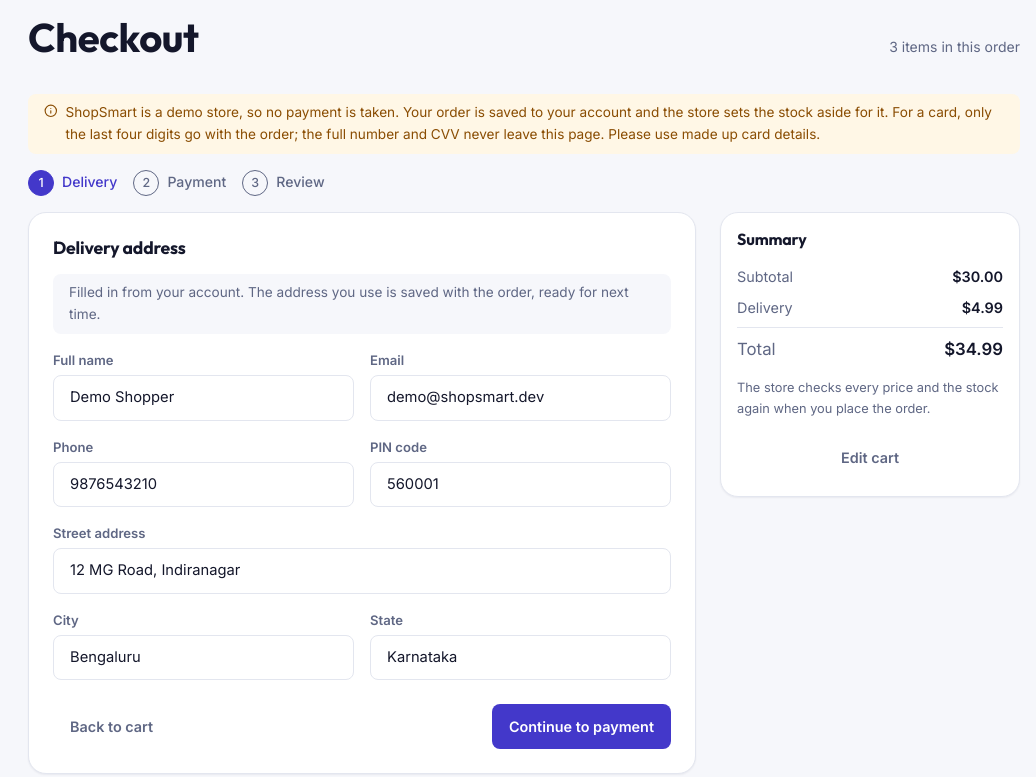
Test case: Checkout › puts the server field errors back on the step that holds them
Click the button "Continue to payment".
click(581, 727)  # box [492,704,671,749]
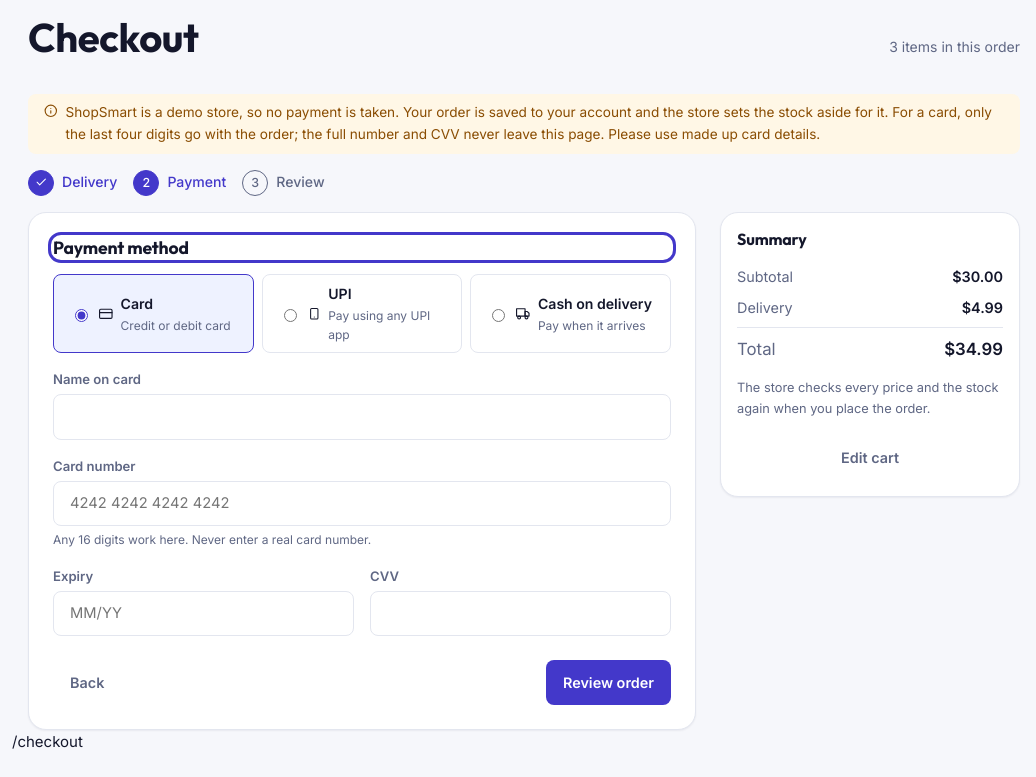
Type "Demo Shopper" into the field labelled "Name on card".
click(362, 417); type("Demo Shopper")  # box [53,394,671,440]
Type "4111 1111 1111 4242" into the field labelled "Card number".
click(362, 504); type("4111 1111 1111 4242")  # box [53,481,671,526]
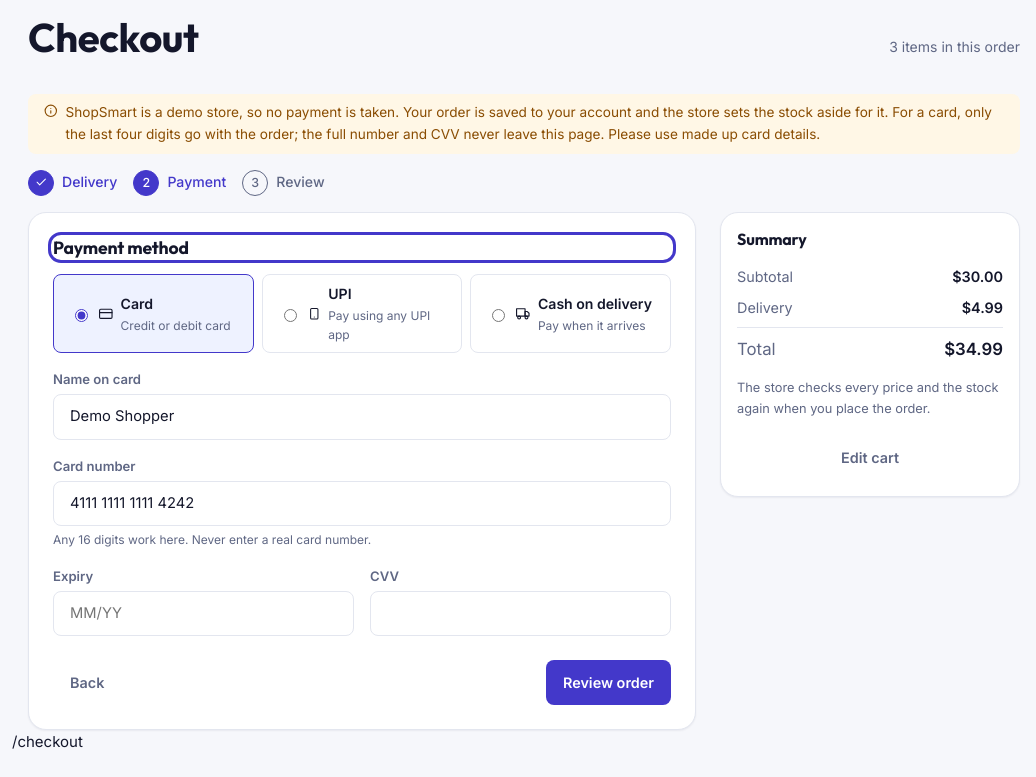
Type "1229" into the field labelled "Expiry".
click(204, 613); type("1229")  # box [53,591,354,636]
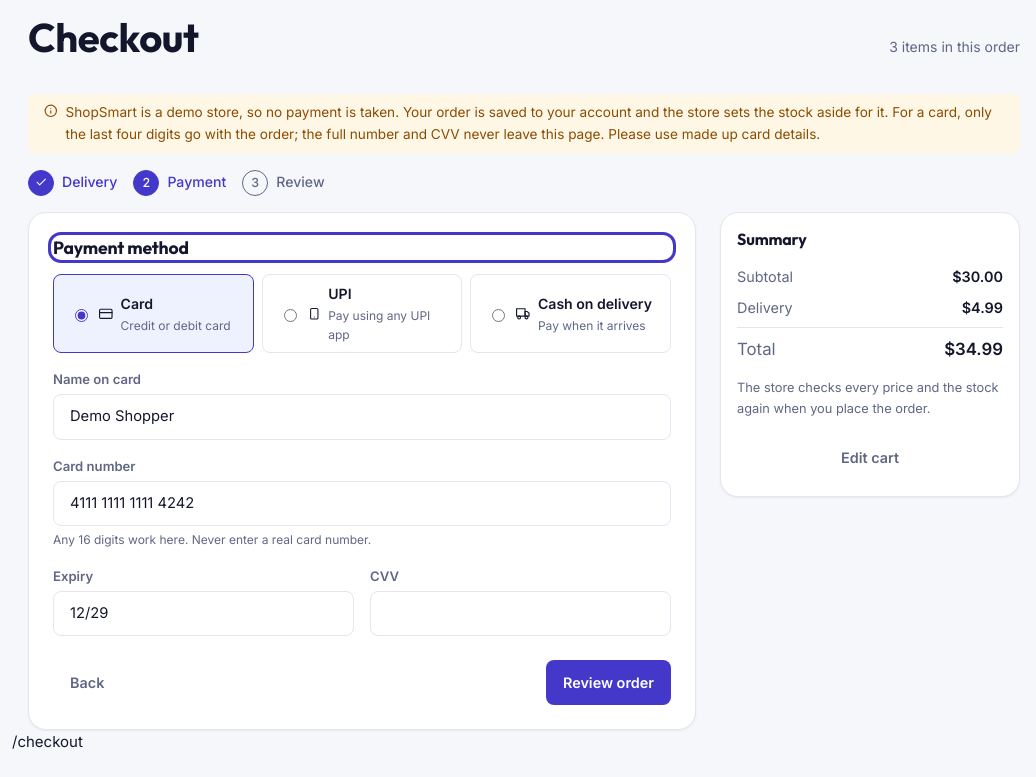
Type "123" into the field labelled "CVV".
click(520, 613); type("123")  # box [370,591,671,636]
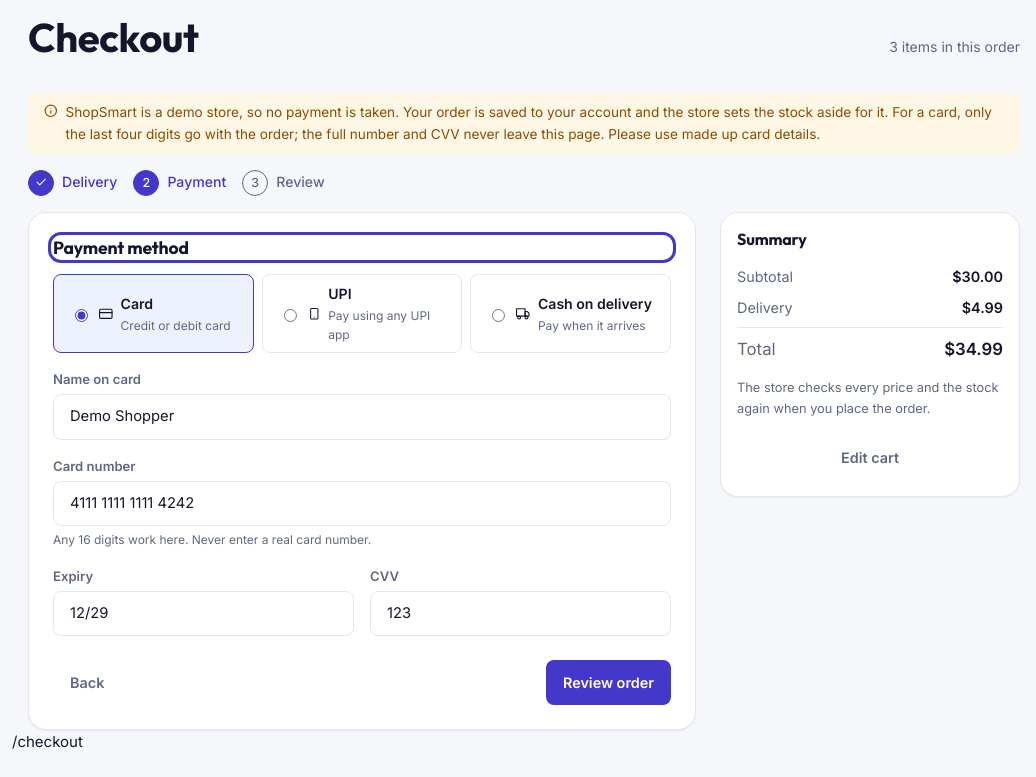
Click the button "Review order".
click(608, 683)  # box [546,660,671,705]
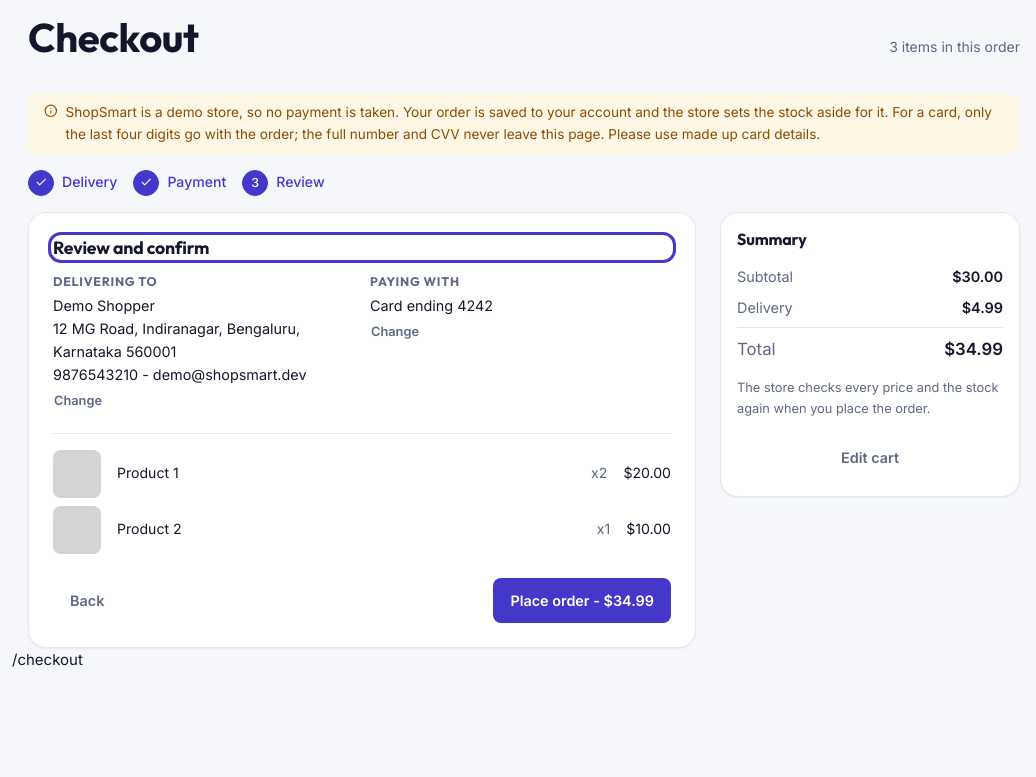
Click the button "Place order - $34.99".
click(582, 600)  # box [493,578,671,623]
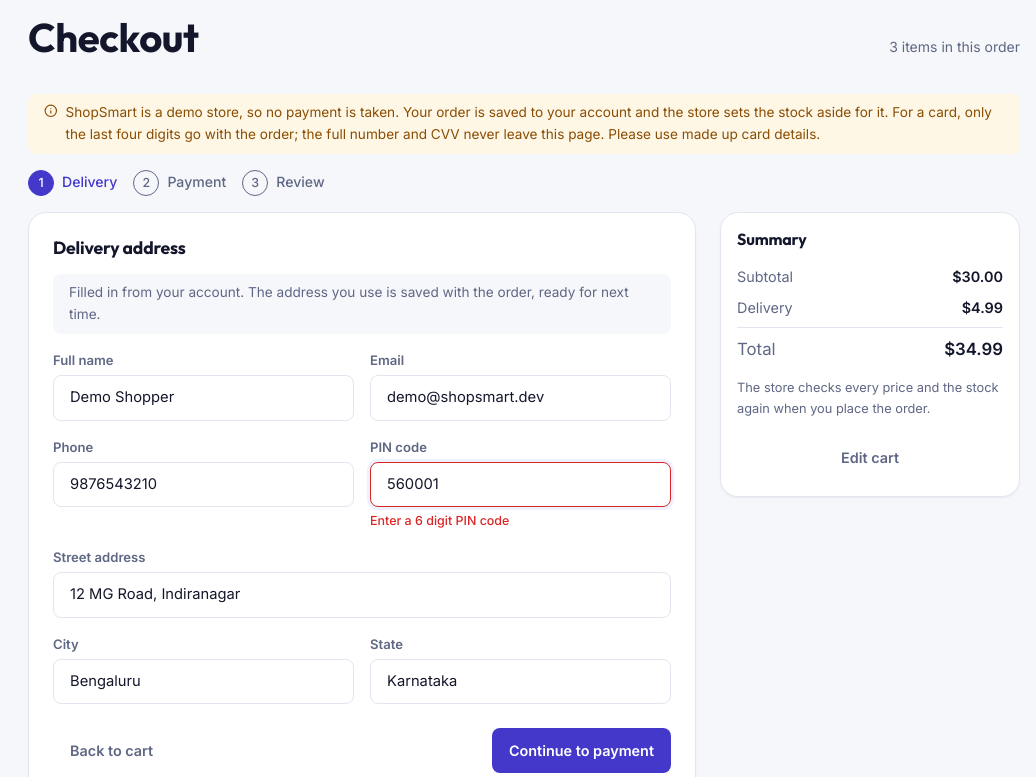
Check: the list item "1 Delivery" is shown, box [28,170,117,196]
Check: the text "Enter a 6 digit PIN code" is shown, box [370,513,509,528]
